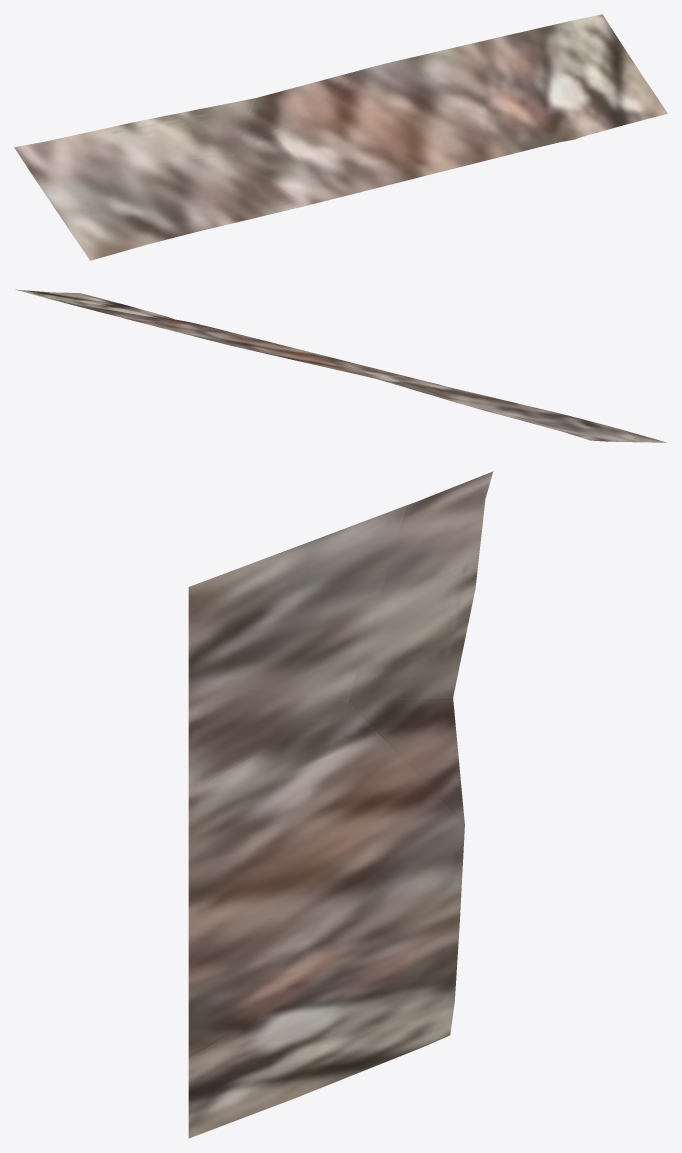
3 views of the same model, one above another, from view 1: azimuth 30°, elevation 25°; view 2: azimuth 150°, elevation 25°; view 3: azimuth 270°, elevation 25° (orthographic). The views are drawn at different scales.
Bounding box in the file's own units: 1.67 × 0.1602 × 0.3823.
1 material, 1 textured.
